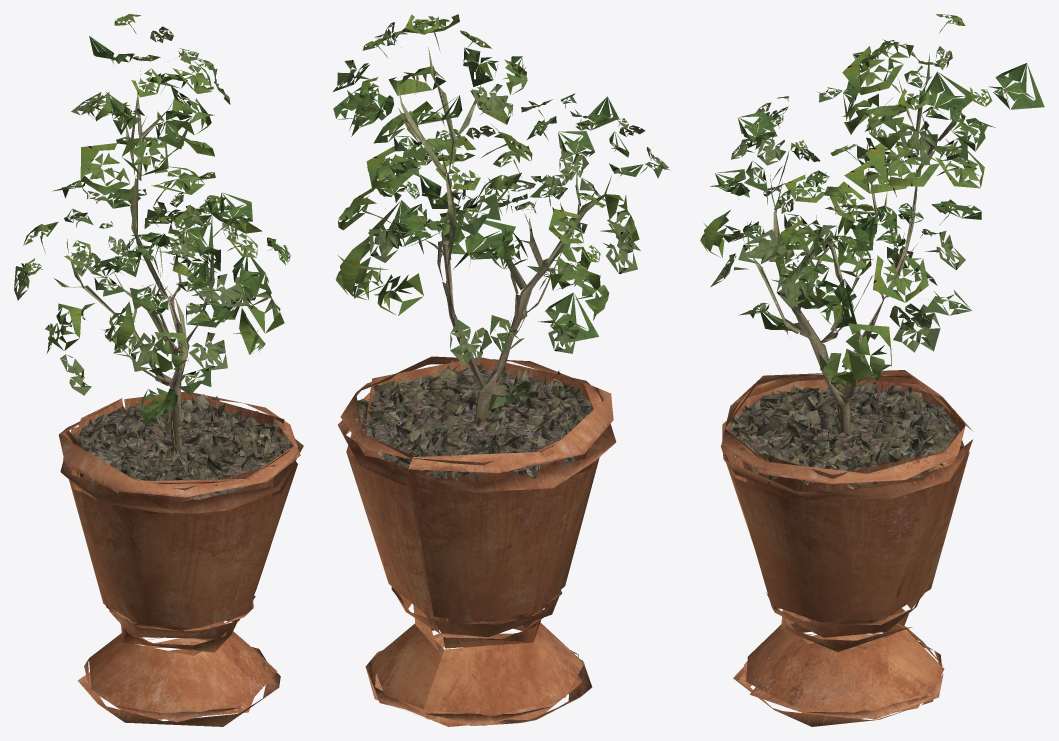
The model's file is potted_plant_01.glb.
3 views of the same model, side by side, from view 1: azimuth 30°, elevation 25°; view 2: azimuth 150°, elevation 25°; view 3: azimuth 270°, elevation 25° (orthographic). The views are drawn at different scales.
Parts seen in each view (by area): view 1: potted_plant_01_pot, potted_plant_01_leaves, potted_plant_01_pebbles, potted_plant_01_stem; view 2: potted_plant_01_pot, potted_plant_01_leaves, potted_plant_01_pebbles, potted_plant_01_stem; view 3: potted_plant_01_pot, potted_plant_01_leaves, potted_plant_01_pebbles, potted_plant_01_stem.
Part boxes in pixels (bbox=[...]): potted_plant_01_pot: bbox=[59, 391, 303, 726]; potted_plant_01_leaves: bbox=[14, 14, 290, 428]; potted_plant_01_pebbles: bbox=[72, 394, 294, 499]; potted_plant_01_stem: bbox=[54, 61, 214, 447]; potted_plant_01_pot: bbox=[338, 356, 616, 726]; potted_plant_01_leaves: bbox=[333, 14, 670, 410]; potted_plant_01_pebbles: bbox=[353, 360, 593, 482]; potted_plant_01_stem: bbox=[397, 47, 611, 422]; potted_plant_01_pot: bbox=[720, 370, 973, 726]; potted_plant_01_leaves: bbox=[700, 14, 1044, 388]; potted_plant_01_pebbles: bbox=[728, 381, 964, 489]; potted_plant_01_stem: bbox=[747, 54, 962, 432].
Size of the model in its own units: 0.5782 by 1.33 by 0.626.
Materials: 2 (2 with a texture image).
